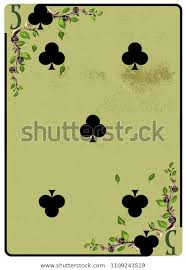five of clubs: (4, 5, 181, 256)
